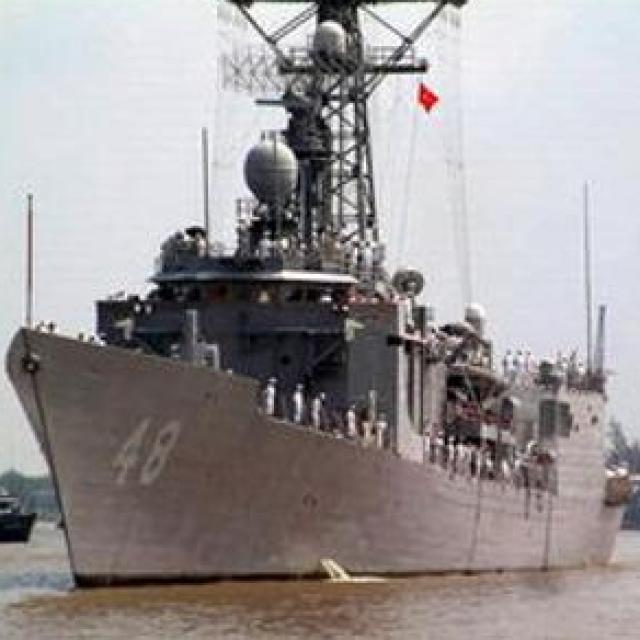navalvessels: (4, 0, 640, 594)
